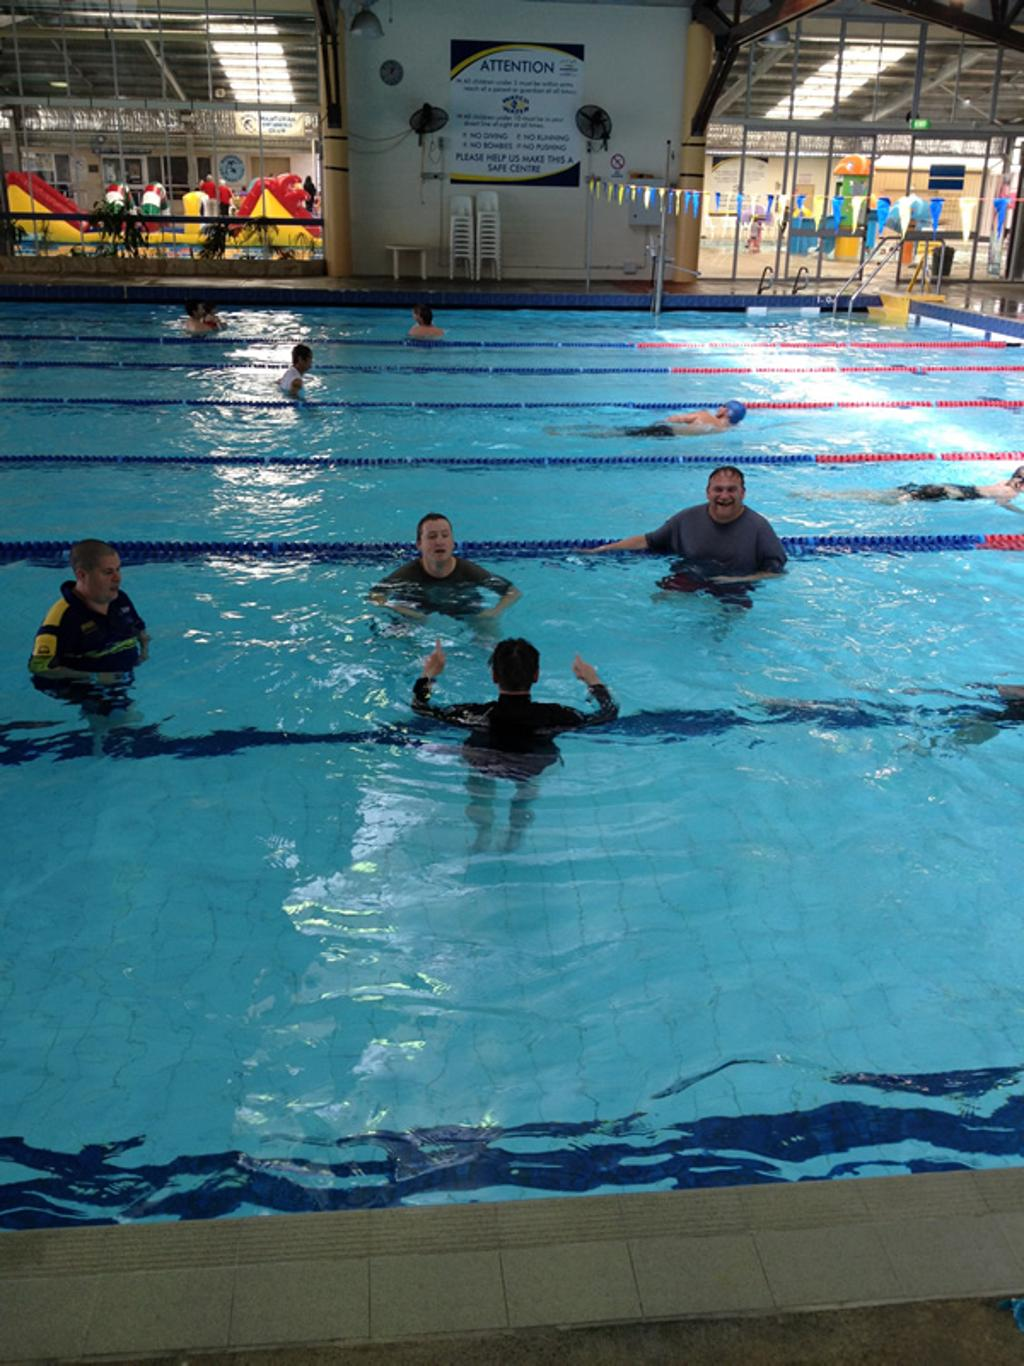face: (84, 553, 120, 602), (708, 469, 742, 519), (420, 518, 451, 562), (1010, 473, 1024, 494)
